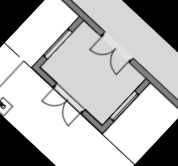double door: (39, 85, 84, 129), (86, 35, 131, 78)
wall: (125, 53, 178, 115), (52, 0, 111, 39), (78, 105, 110, 136), (28, 60, 60, 91), (91, 111, 118, 139), (28, 51, 51, 75), (66, 14, 88, 36)
window: (106, 87, 142, 125), (41, 26, 75, 62)
